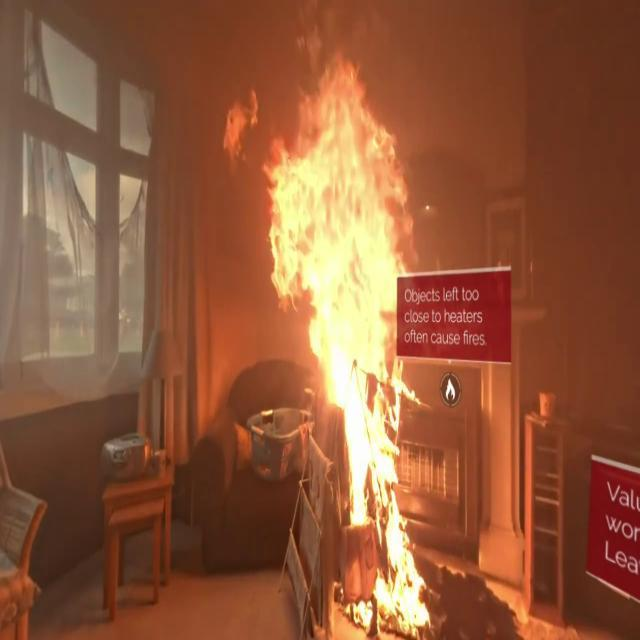Fire: (264, 49, 428, 626)
